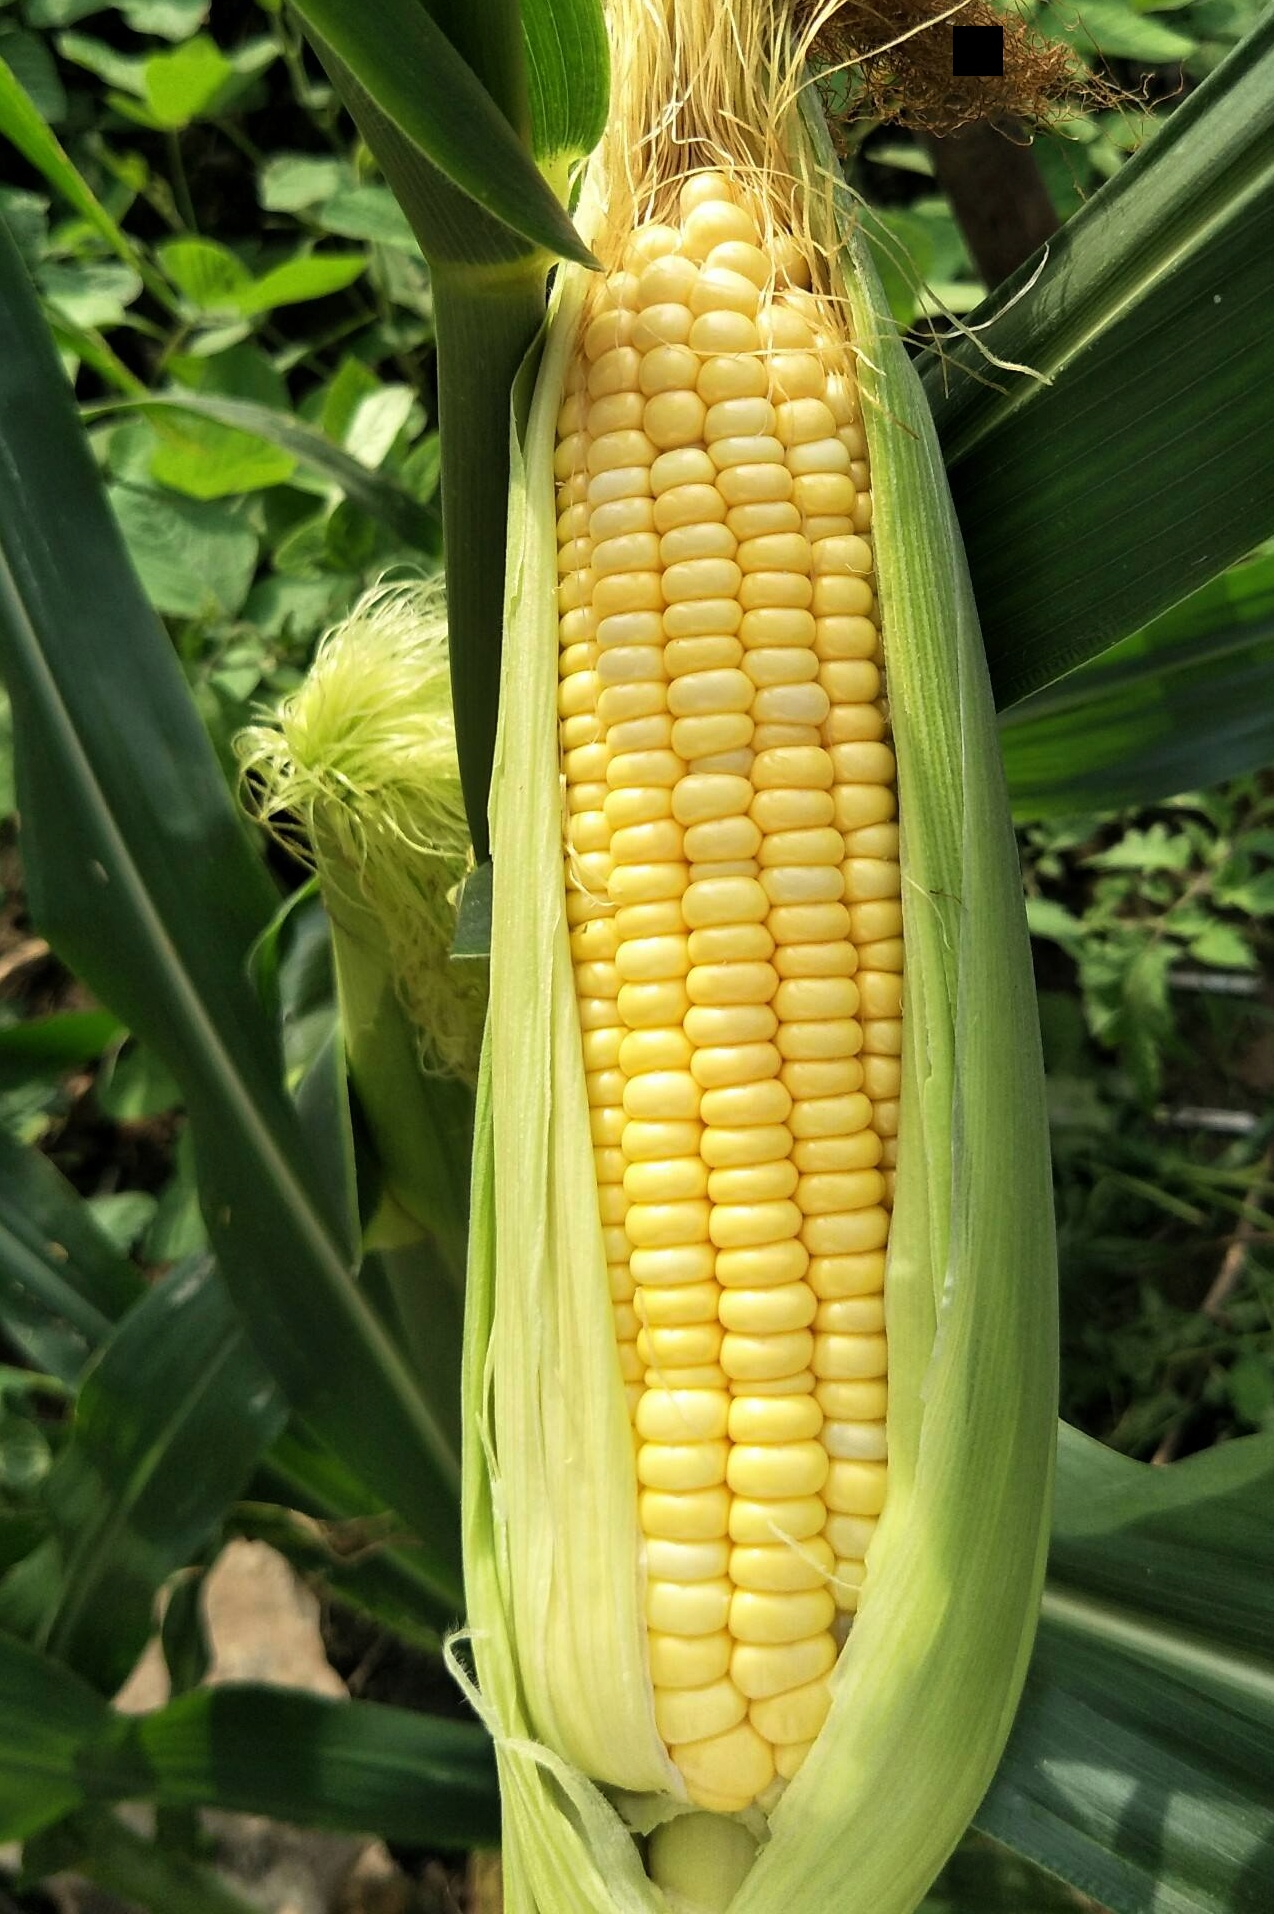corn: (468, 142, 1056, 1914)
